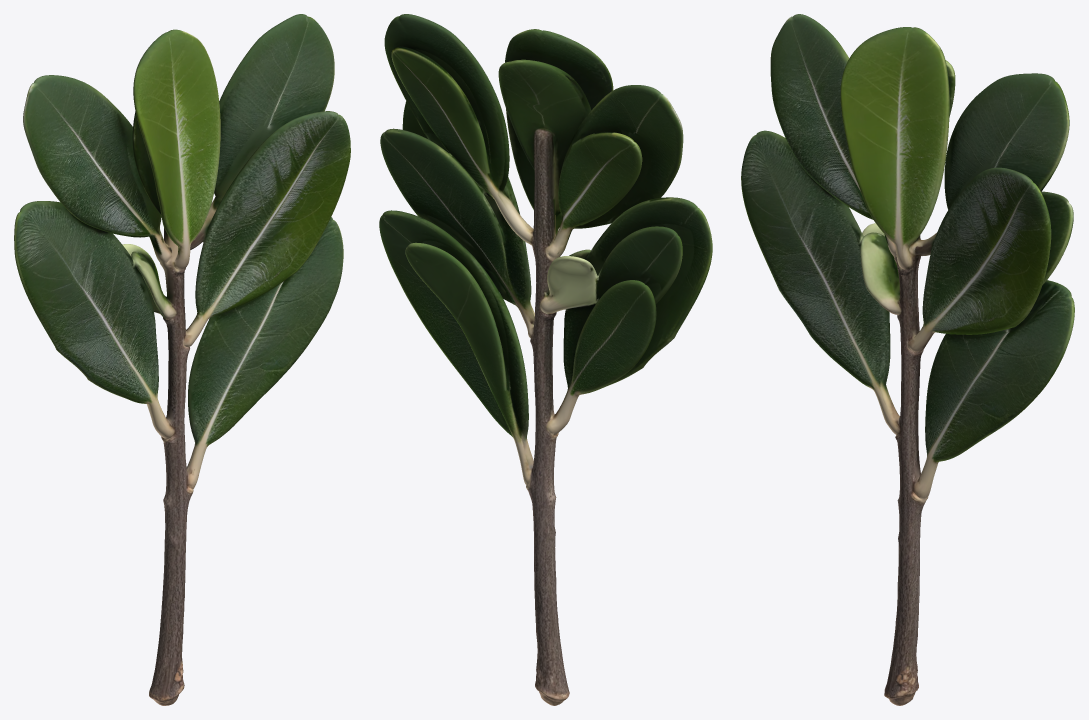
The model's file is yuegui.glb.
The picture shows the model from 3 angles, left to right: view 1: azimuth 30°, elevation 25°; view 2: azimuth 150°, elevation 25°; view 3: azimuth 330°, elevation 25°; orthographic projection.
Parts seen in each view (by area): view 1: node_0; view 2: node_0; view 3: node_0.
Part boxes in pixels (x1,y1,x2,y2): node_0: (14, 14, 350, 705); node_0: (379, 14, 712, 705); node_0: (741, 14, 1074, 705).
Bounding box in the file's own units: 0.5935 × 1.16 × 0.1145.
Materials: 1 (1 with a texture image).
